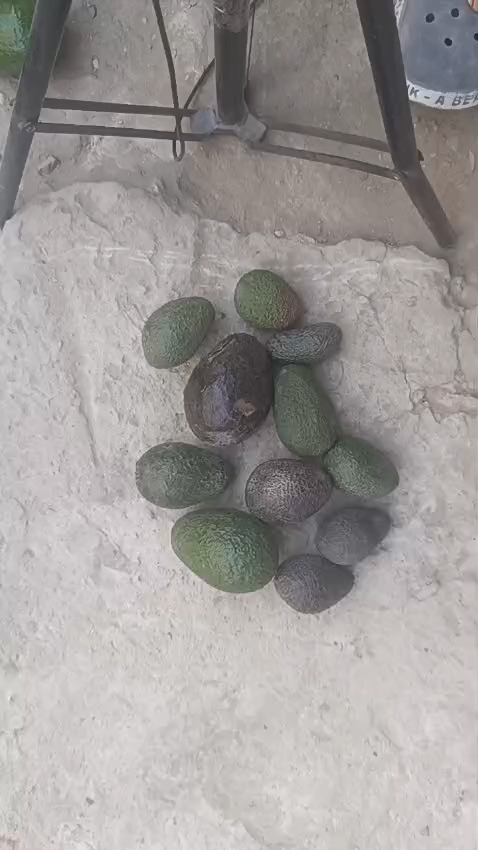Primera: (187, 335, 276, 446), (174, 509, 281, 594)
Segunda: (138, 444, 236, 511), (272, 366, 340, 461), (245, 460, 334, 528)
Tercera: (143, 297, 216, 369), (322, 440, 399, 507), (275, 553, 355, 613), (316, 507, 392, 567), (235, 269, 304, 333), (265, 322, 344, 368)
